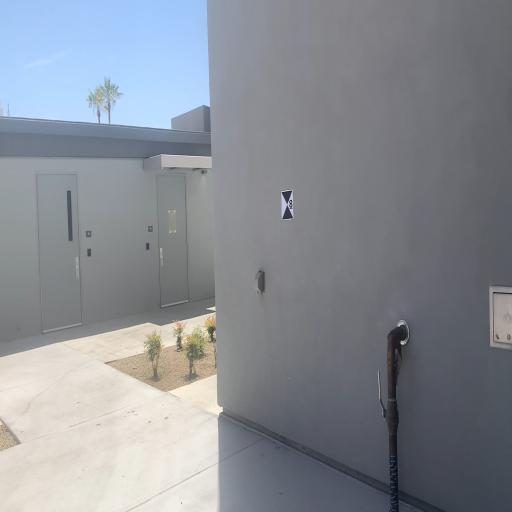target8: (282, 191, 294, 220)
